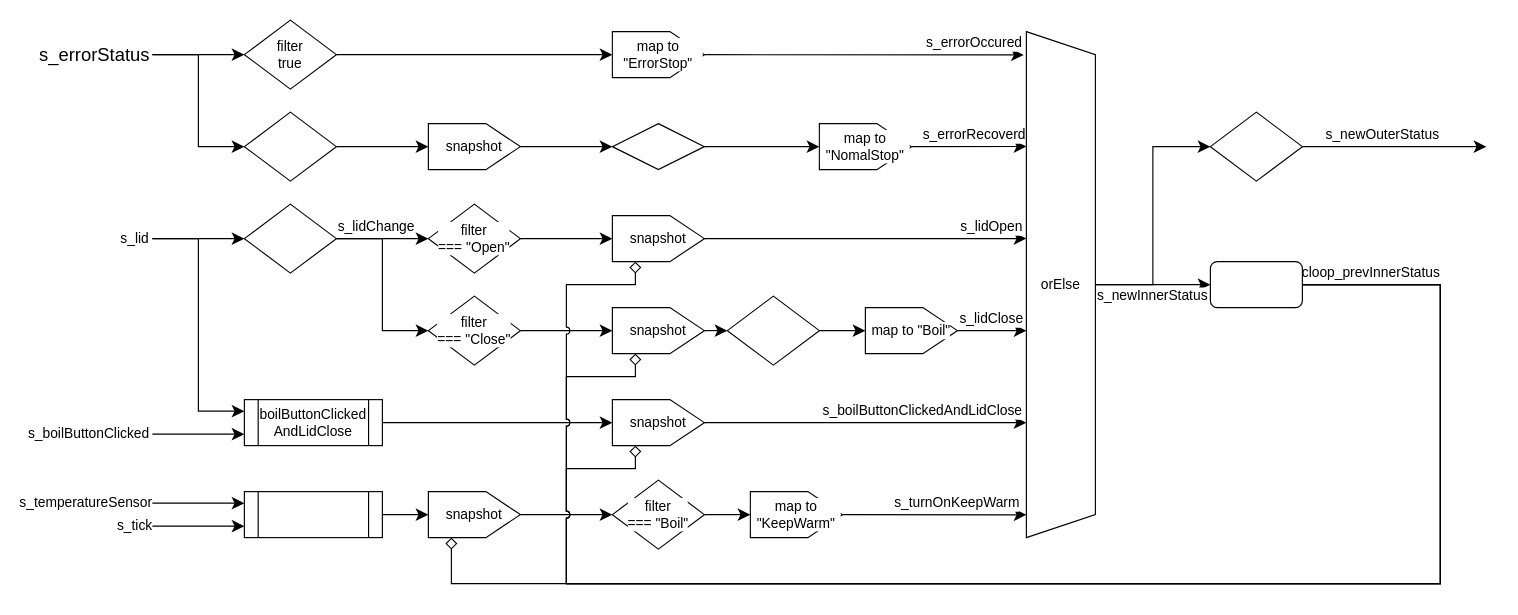
The diagram is 1518 pixels wide and 615 high, and some of its shapes have lost their labels. The shapes that lost their labels are listed below. From the top down, each one's centre as x and y in pixels, then its label:
[289,146]: filter false
[657,146]: filter === ErrorStop
[1255,146]: change "Stop"
[289,238]: change "Open"
[1255,284]: hold "NomalStop"
[772,330]: filter === "NomalStop"
[312,514]: turnOnKeepWarm
